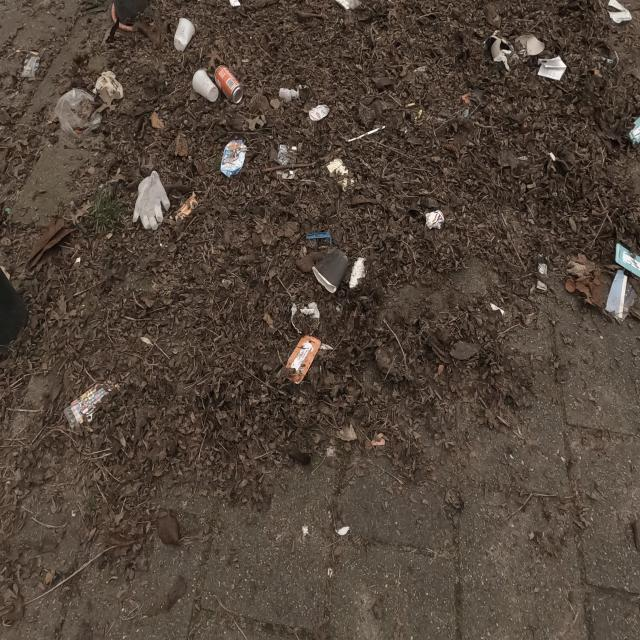Can-Metal: (216, 64, 244, 104)
Cup: (312, 248, 348, 294), (191, 70, 217, 102), (172, 26, 197, 52)
Paper: (284, 333, 322, 385), (348, 256, 368, 289), (424, 210, 444, 230)
